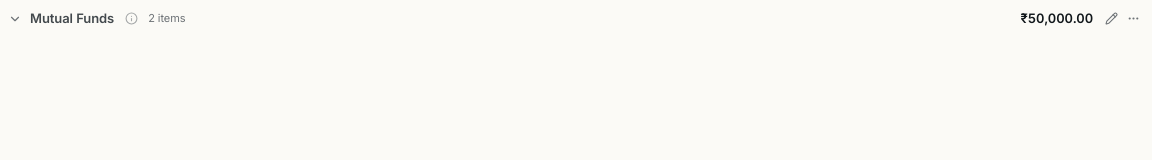
Test case: SubCategoryGroupHeader — description tooltip › shows the description body when opened
This screenshot has width=1152, height=160.
Click the button named "more information" at [131, 18], box x1=122 y1=10 x2=140 y2=28
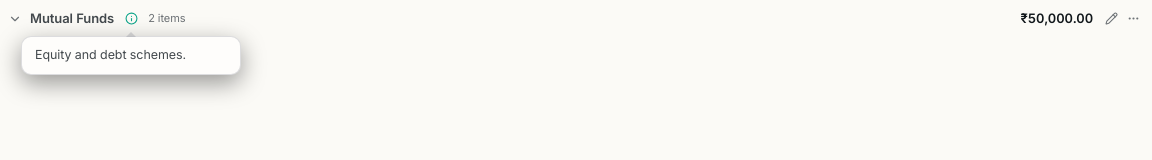
Expected: the tooltip reads "Equity and debt schemes.", x1=35 y1=47 x2=186 y2=62
